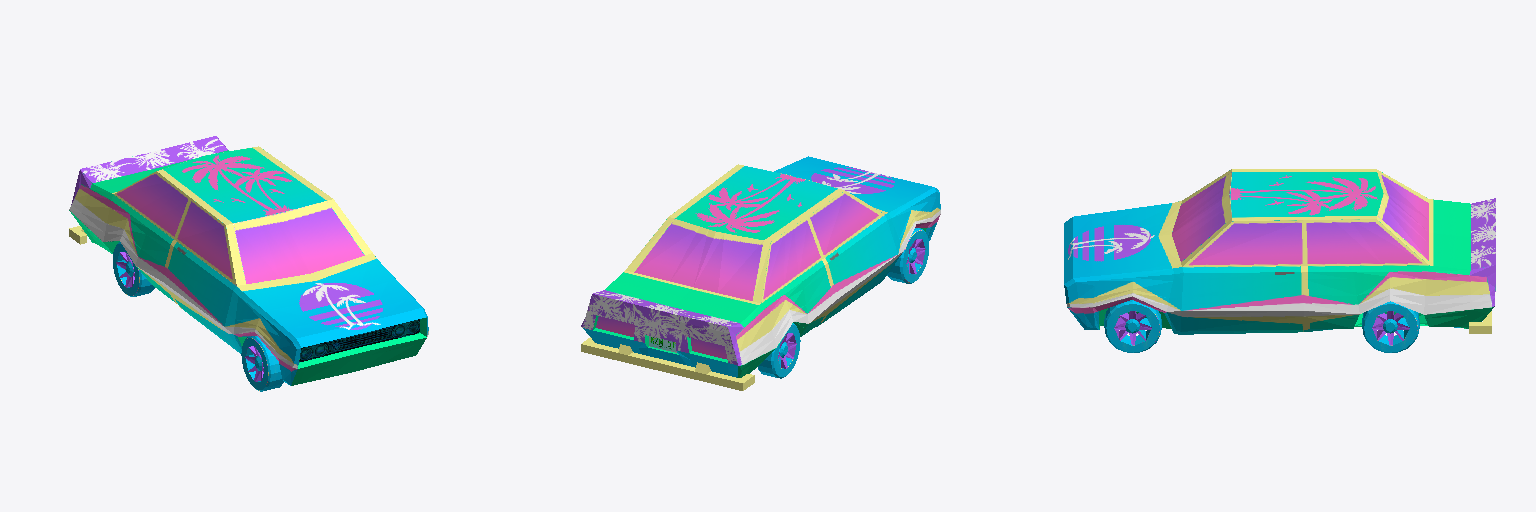
3 views of the same model, side by side, from view 1: azimuth 30°, elevation 25°; view 2: azimuth 150°, elevation 25°; view 3: azimuth 270°, elevation 25° (orthographic).
Visible parts, largest first — view 1: polySurface2, pCylinder1 pCylinder2 pCylinder3 pCylinder4; view 2: polySurface2, pCylinder1 pCylinder2 pCylinder3 pCylinder4, pCube2; view 3: polySurface2, pCylinder1 pCylinder2 pCylinder3 pCylinder4.
Boxes of the visible parts, x1,y1,x2,y2 form: polySurface2: [69, 136, 428, 385]; pCylinder1 pCylinder2 pCylinder3 pCylinder4: [113, 242, 283, 391]; polySurface2: [581, 156, 940, 377]; pCylinder1 pCylinder2 pCylinder3 pCylinder4: [758, 228, 928, 378]; pCube2: [581, 337, 754, 390]; polySurface2: [1064, 169, 1495, 334]; pCylinder1 pCylinder2 pCylinder3 pCylinder4: [1104, 300, 1419, 352].
Size of the model in its own units: 4.21 by 3.09 by 9.7.
Materials: 4 (3 with a texture image).